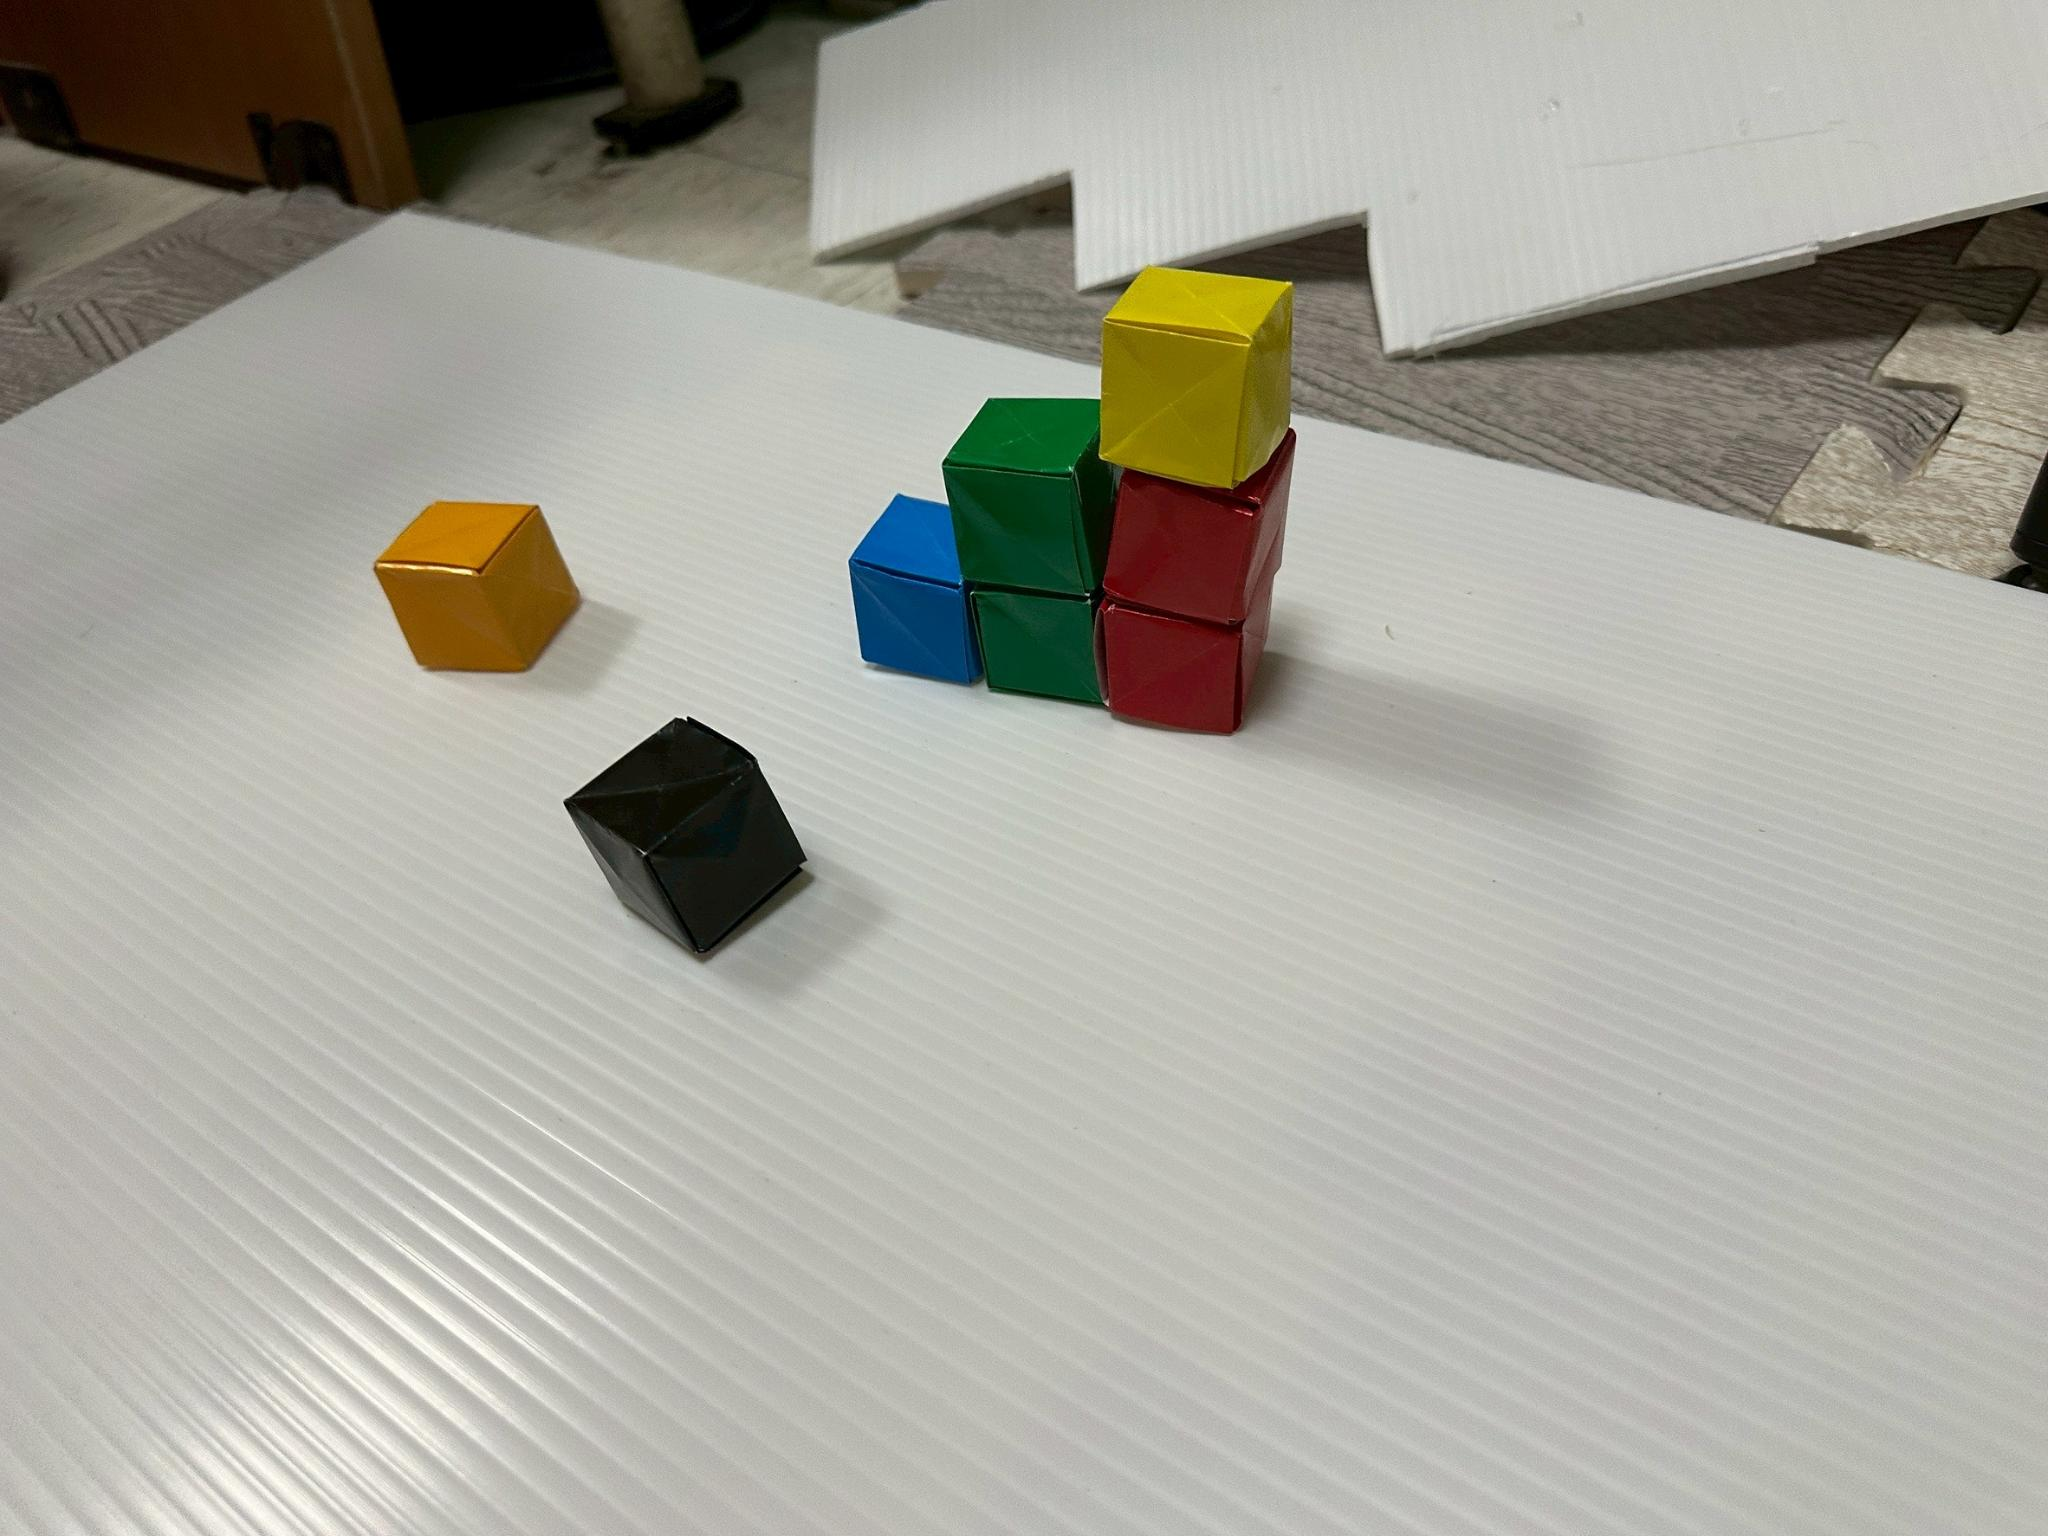cube: (566, 720, 805, 952), (1100, 266, 1290, 487), (1103, 429, 1293, 623), (374, 502, 579, 673), (943, 399, 1113, 595), (1098, 578, 1268, 733), (848, 495, 982, 684), (972, 589, 1101, 705)
